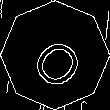O_NE: (21, 22, 88, 88)
